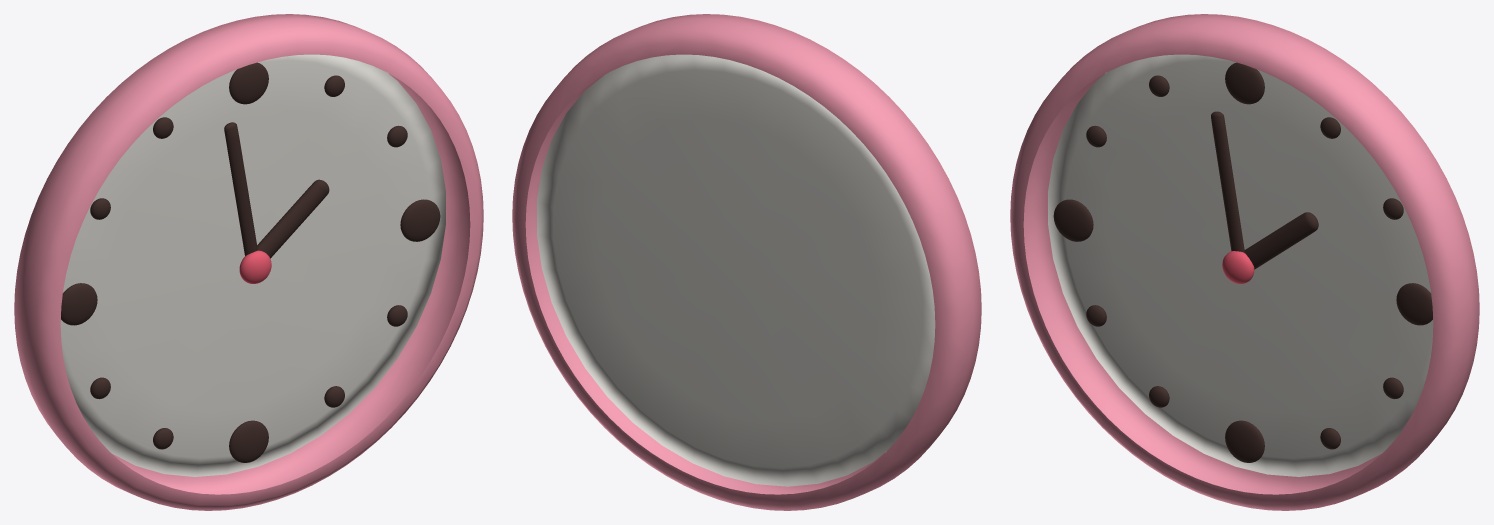
Rendered from deco_reloj.glb.
The picture shows the model from 3 angles, left to right: view 1: azimuth 30°, elevation 25°; view 2: azimuth 150°, elevation 25°; view 3: azimuth 330°, elevation 25°; orthographic projection.
Visible parts, largest first — view 1: cara reloj.001, aro reloj.001, minutero.001, horario.001, marca 0.001, marca 9.001, marca 3.001, marca 6.001, centro reloj.001; view 2: cara reloj.001, aro reloj.001; view 3: cara reloj.001, aro reloj.001, minutero.001, horario.001, marca 6.001, marca 9.001, marca 3.001, marca 0.001, centro reloj.001.
Boxes of the visible parts, bbox=[...] form: cara reloj.001: bbox=[60, 54, 445, 476]; aro reloj.001: bbox=[14, 14, 483, 510]; minutero.001: bbox=[224, 122, 257, 255]; horario.001: bbox=[257, 179, 329, 258]; marca 0.001: bbox=[400, 199, 440, 241]; marca 9.001: bbox=[229, 420, 268, 462]; marca 3.001: bbox=[229, 62, 268, 104]; marca 6.001: bbox=[61, 283, 97, 325]; centro reloj.001: bbox=[239, 250, 271, 283]; cara reloj.001: bbox=[537, 54, 935, 486]; aro reloj.001: bbox=[512, 14, 981, 510]; cara reloj.001: bbox=[1048, 54, 1433, 476]; aro reloj.001: bbox=[1010, 14, 1479, 510]; minutero.001: bbox=[1211, 111, 1244, 252]; horario.001: bbox=[1244, 212, 1318, 269]; marca 6.001: bbox=[1053, 199, 1093, 241]; marca 9.001: bbox=[1225, 420, 1264, 462]; marca 3.001: bbox=[1225, 62, 1264, 104]; marca 0.001: bbox=[1396, 283, 1432, 325]; centro reloj.001: bbox=[1222, 251, 1254, 283].
Bounding box in the file's own units: 0.3967 × 0.3967 × 0.05.
